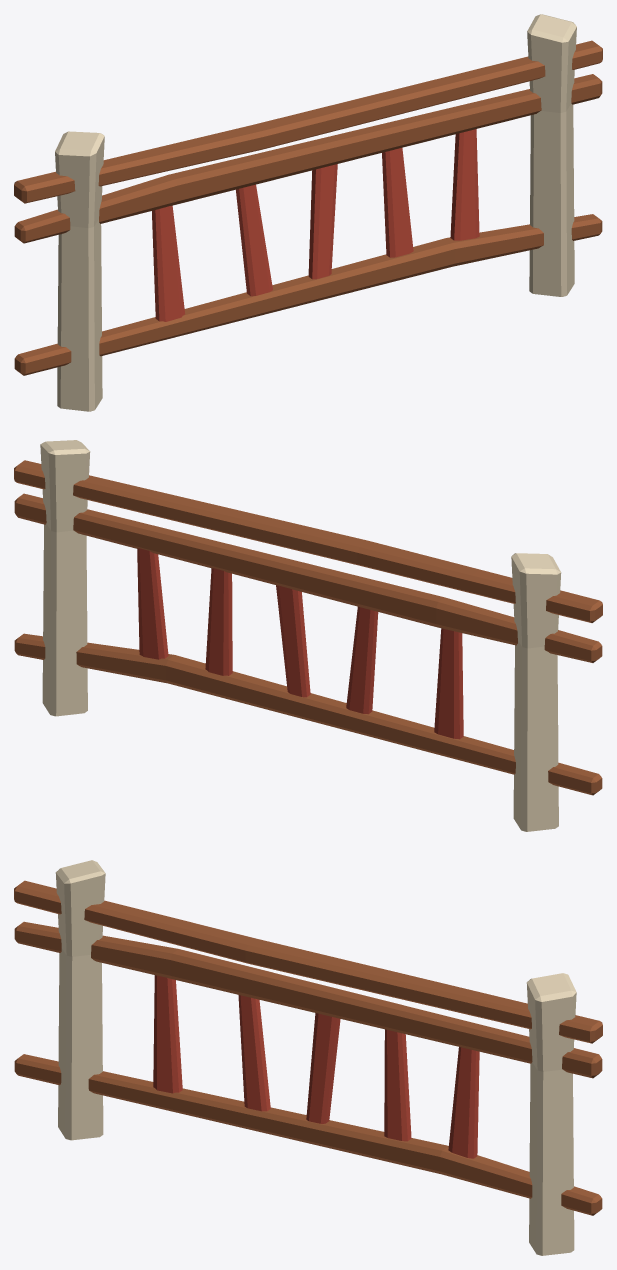
The model's file is fence_l.gltf.
3 views of the same model, one above another, from view 1: azimuth 30°, elevation 25°; view 2: azimuth 150°, elevation 25°; view 3: azimuth 330°, elevation 25° (orthographic).
Parts seen in each view (by area): view 1: fence_l001; view 2: fence_l001; view 3: fence_l001.
Boxes of the visible parts, x1,y1,x2,y2 form: fence_l001: [14, 14, 602, 411]; fence_l001: [14, 440, 602, 831]; fence_l001: [14, 860, 602, 1255].
Bounding box in the file's own units: 1.18 × 0.5178 × 0.0957.
1 material, 1 textured.
